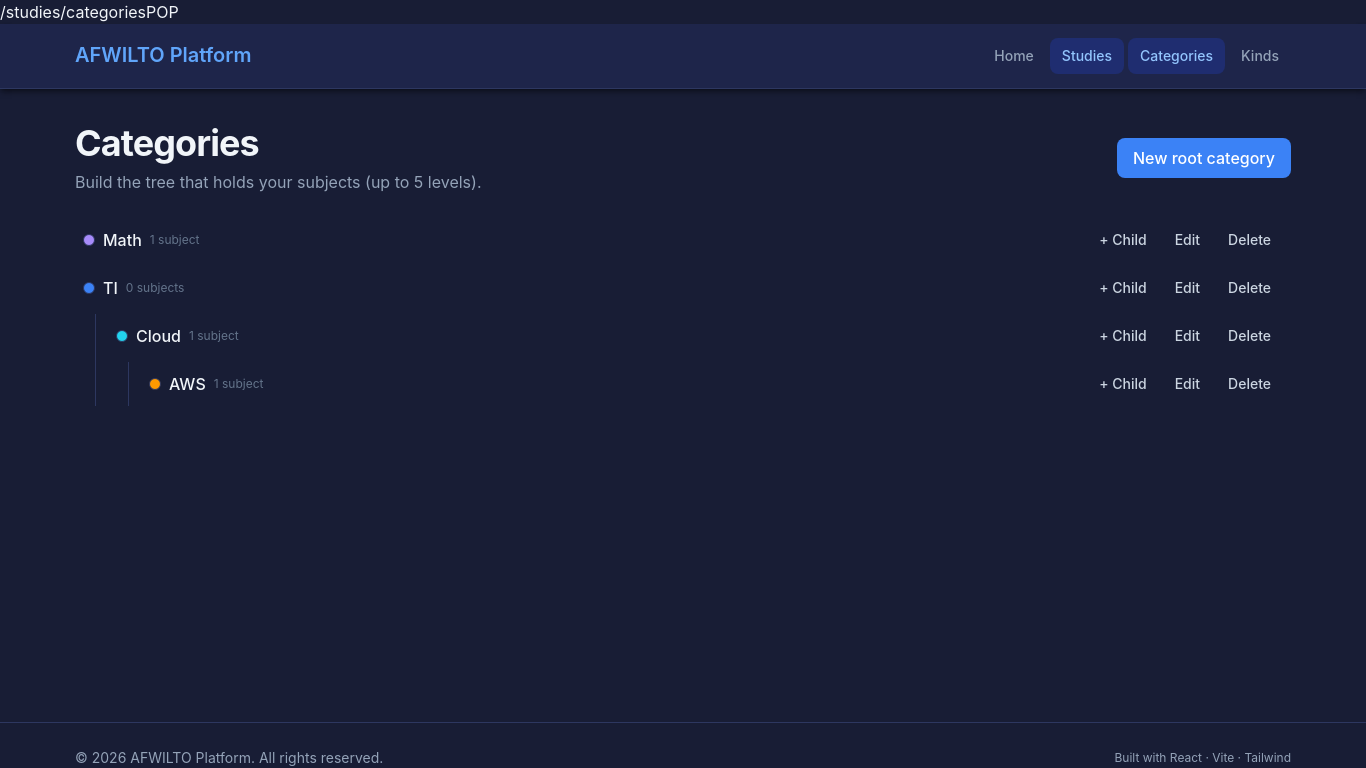
it: CategoriesPage — edit (S09a-6) › an unchanged form sends nothing and closes
expect the heading "Categories" is shown: met, box [75,121,259,165]
expect the text "AWS" is shown: met, box [169,372,206,396]
Click the button with aria-label "Edit Math" at (1187, 240), box [1163,224,1212,256]
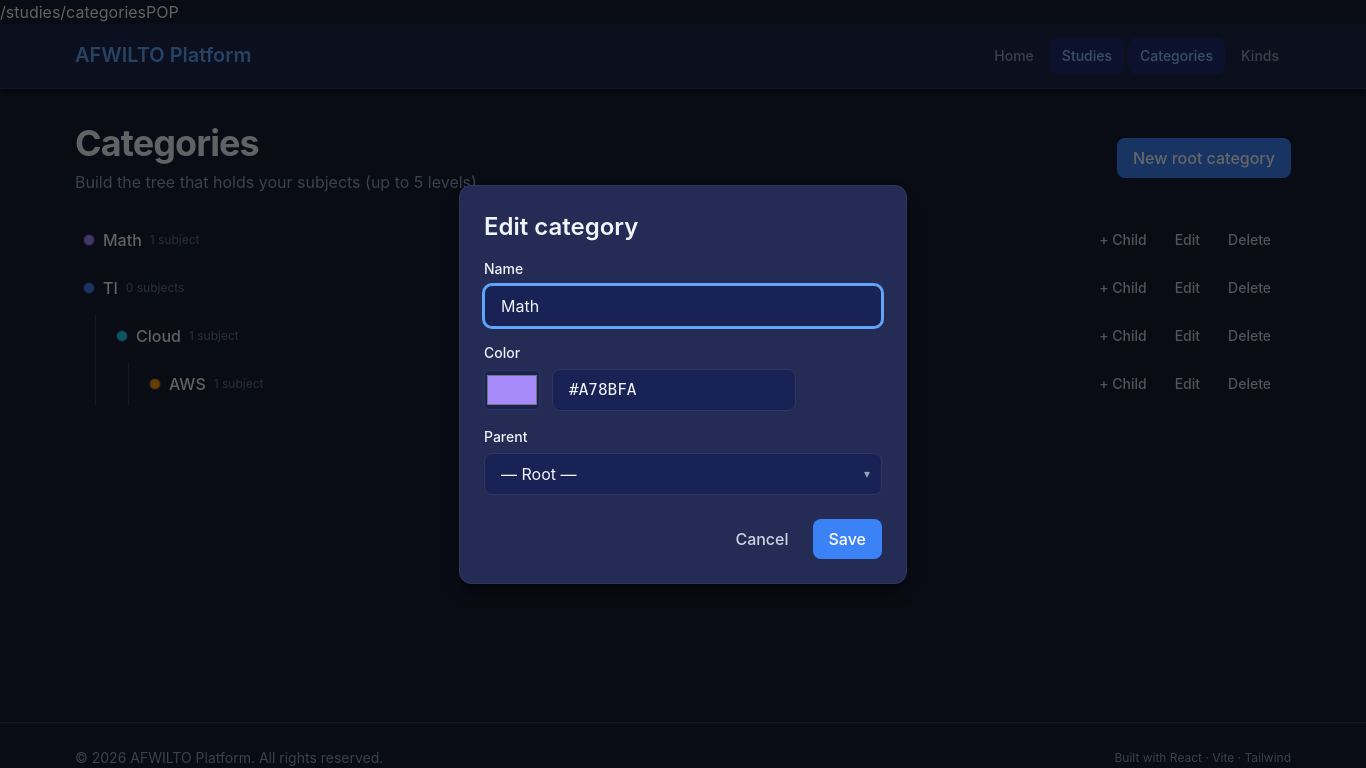
Replace the text in the field labelled "Name" with " Math " at (683, 306), box [484,284,882,326]
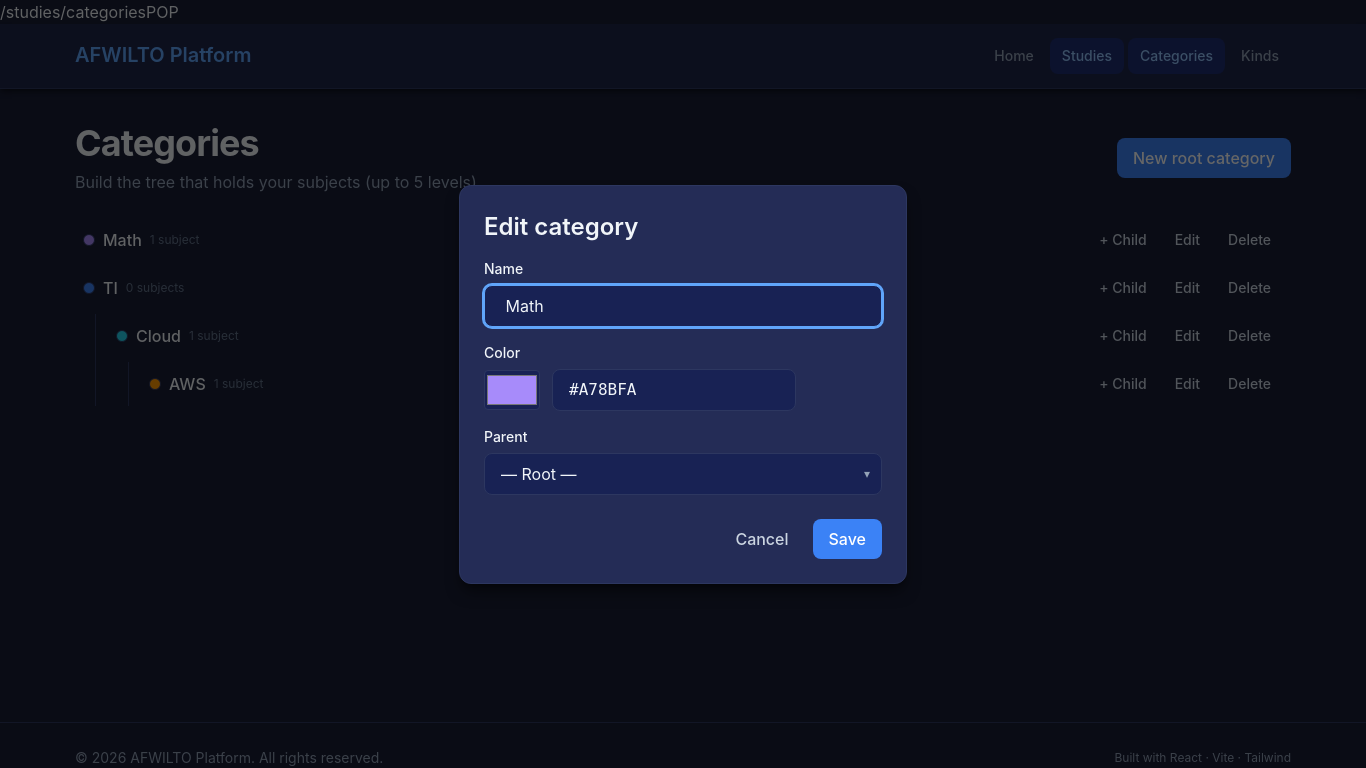
Click the button "Save" at (847, 538), box [812,518,882,558]
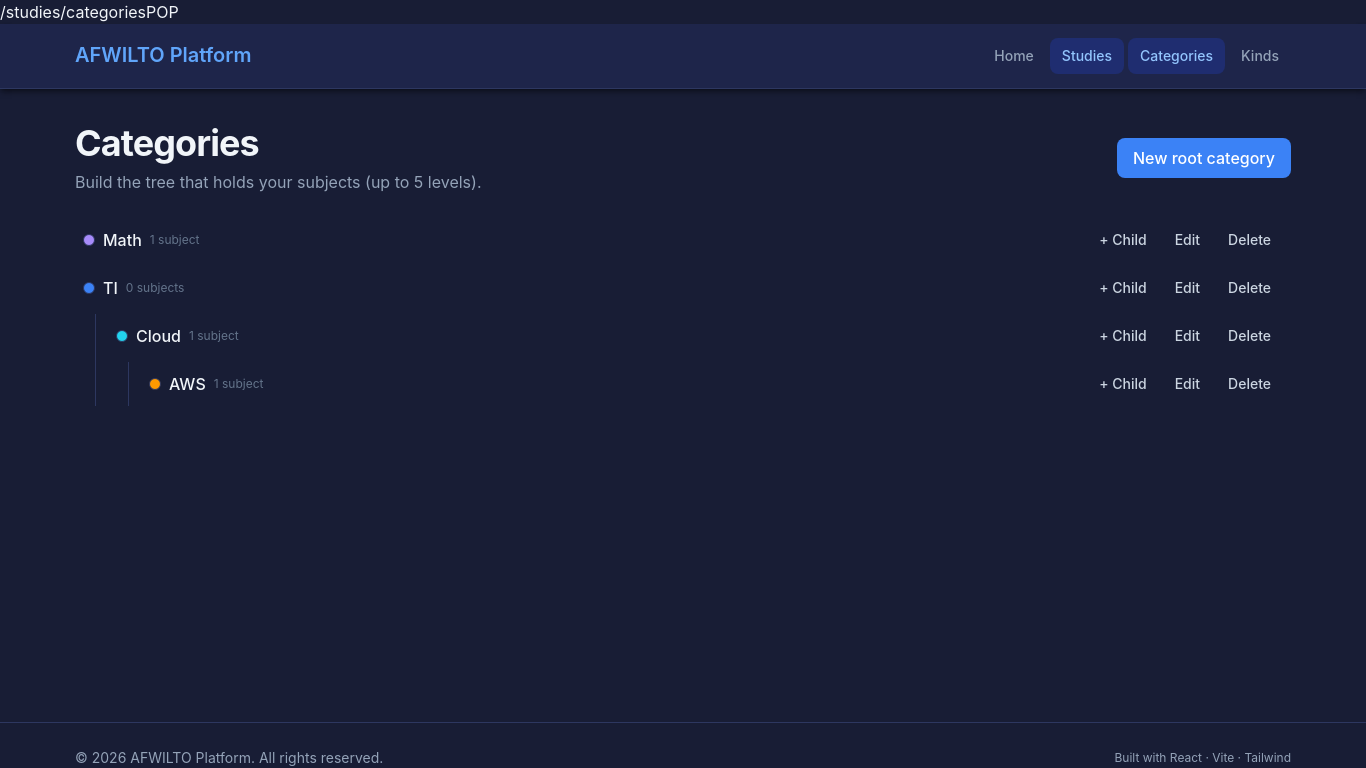
expect the dialog is gone: met
